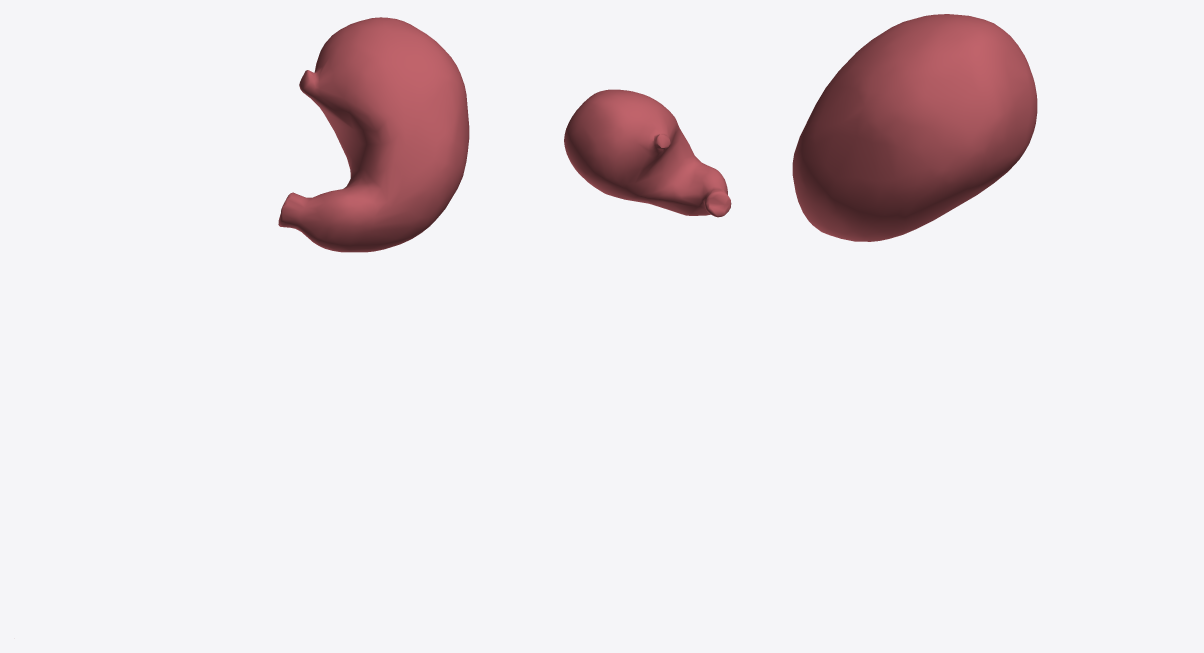
The model's file is oshqozon.glb.
3 renders of one model, left to right at view 1: azimuth 30°, elevation 25°; view 2: azimuth 150°, elevation 25°; view 3: azimuth 270°, elevation 25°, orthographic. The views are drawn at different scales.
Parts seen in each view (by area): view 1: oshqozon; view 2: oshqozon; view 3: oshqozon.
Boxes of the visible parts, <box> form: oshqozon: <box>278,17,469,252</box>; oshqozon: <box>564,89,731,217</box>; oshqozon: <box>792,14,1037,241</box>.
Size of the model in its own units: 0.2441 by 0.4258 by 0.191.
